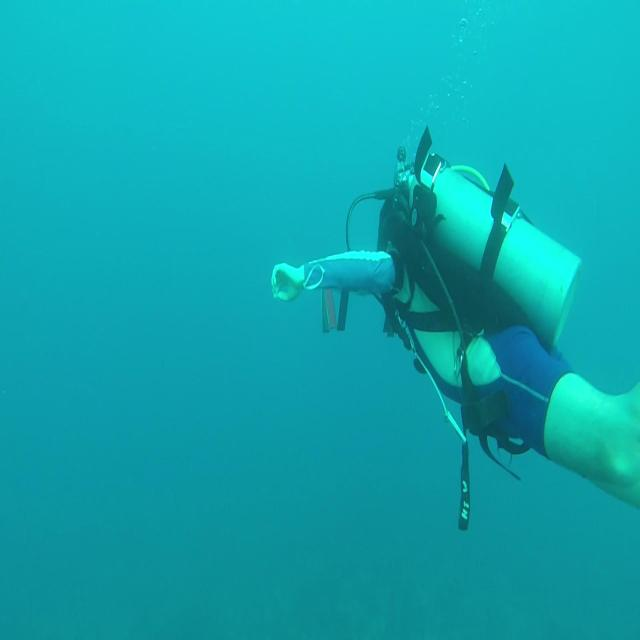human: (271, 135, 639, 530)
